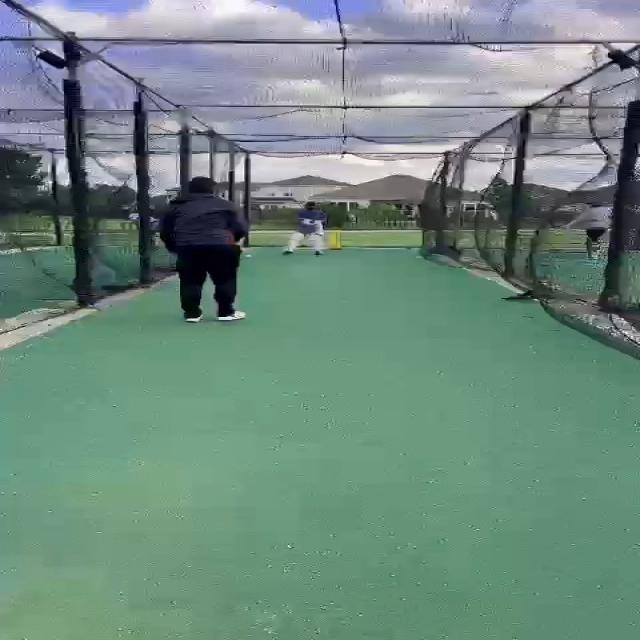batsman: (281, 202, 330, 256)
